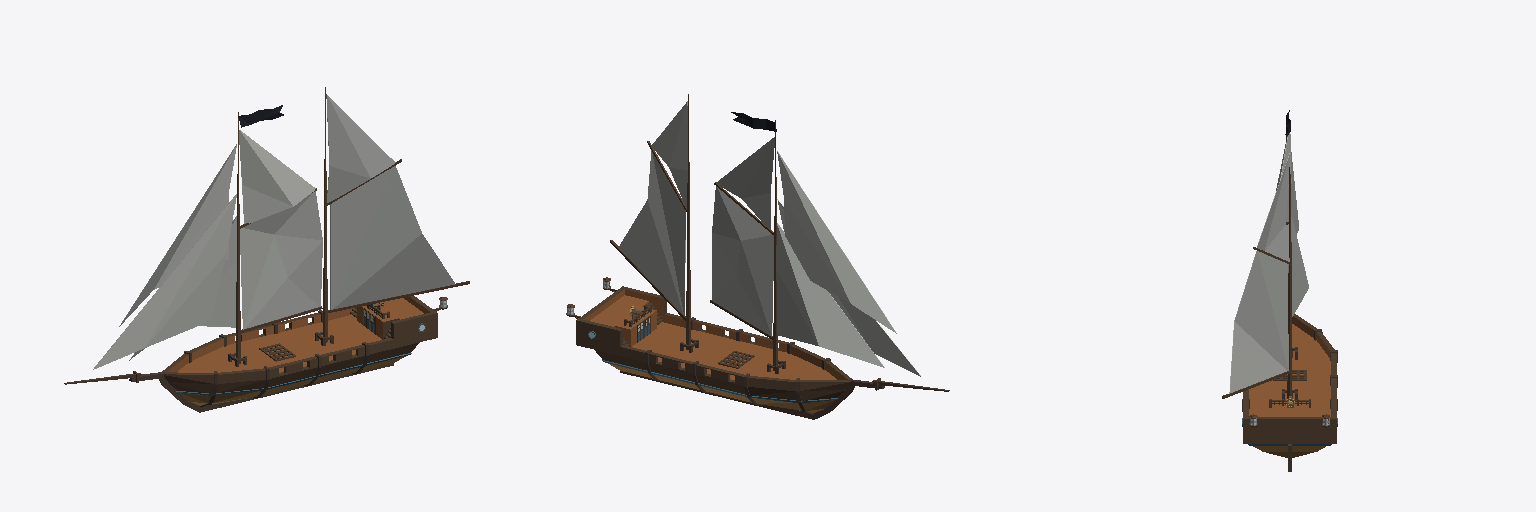
3 views of the same model, side by side, from view 1: azimuth 30°, elevation 25°; view 2: azimuth 150°, elevation 25°; view 3: azimuth 270°, elevation 25° (orthographic).
Parts seen in each view (by area): view 1: Sail, Body, Mast; view 2: Sail, Body, Mast; view 3: Sail, Body, Mast.
Part boxes in pixels (x1,y1,x2,y2): Sail: (93, 94, 454, 369); Body: (64, 296, 447, 412); Mast: (236, 87, 469, 363); Sail: (619, 101, 920, 376); Body: (566, 277, 949, 419); Mast: (610, 94, 777, 370); Sail: (1229, 110, 1308, 393); Body: (1242, 314, 1337, 471); Mast: (1222, 167, 1292, 398).
Bounding box in the file's own units: 517 × 390 × 139.
1 materials, 1 textured.